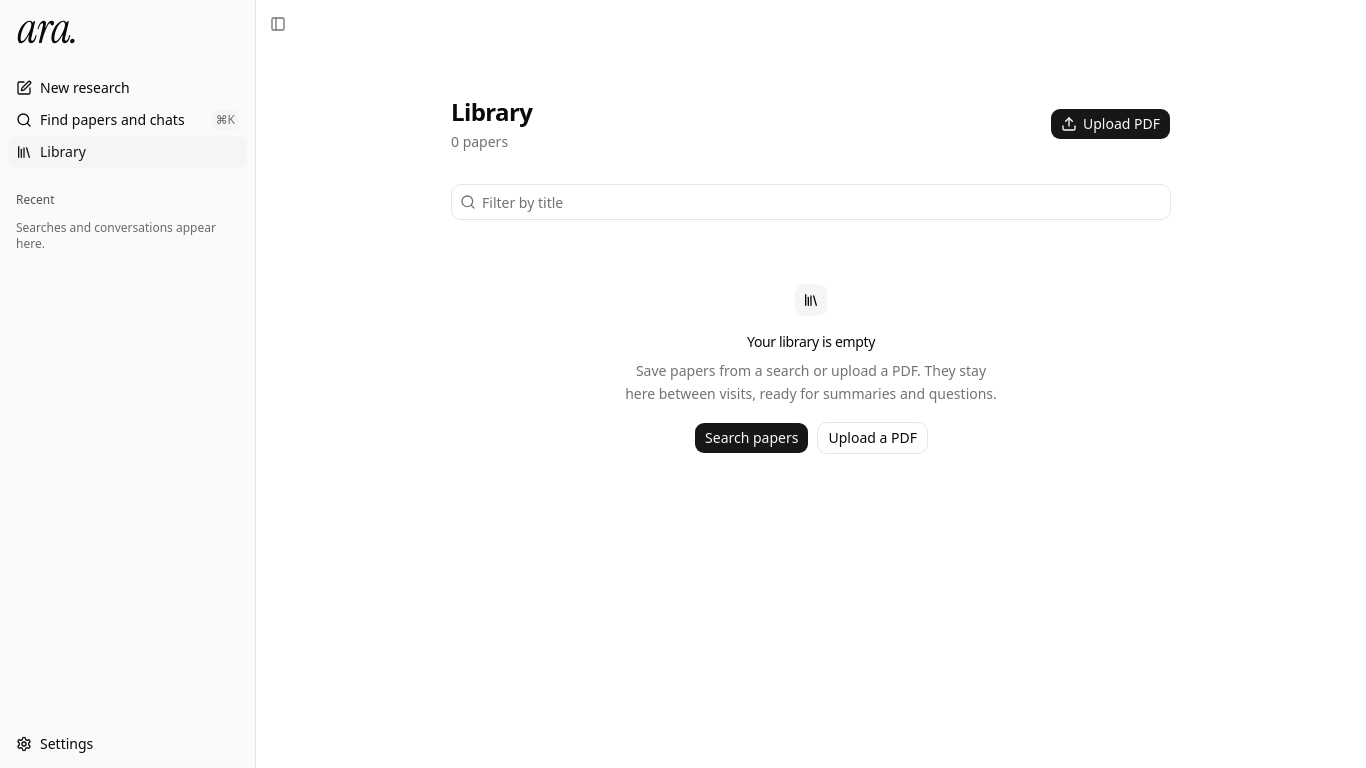
Test case: Given a category is chosen, Then the URL names it, and the browser Back button closes the dialog
The width and height of the screenshot is (1366, 768).
Step 1. Click the button "Settings" → (128, 744), box [8, 728, 247, 760]
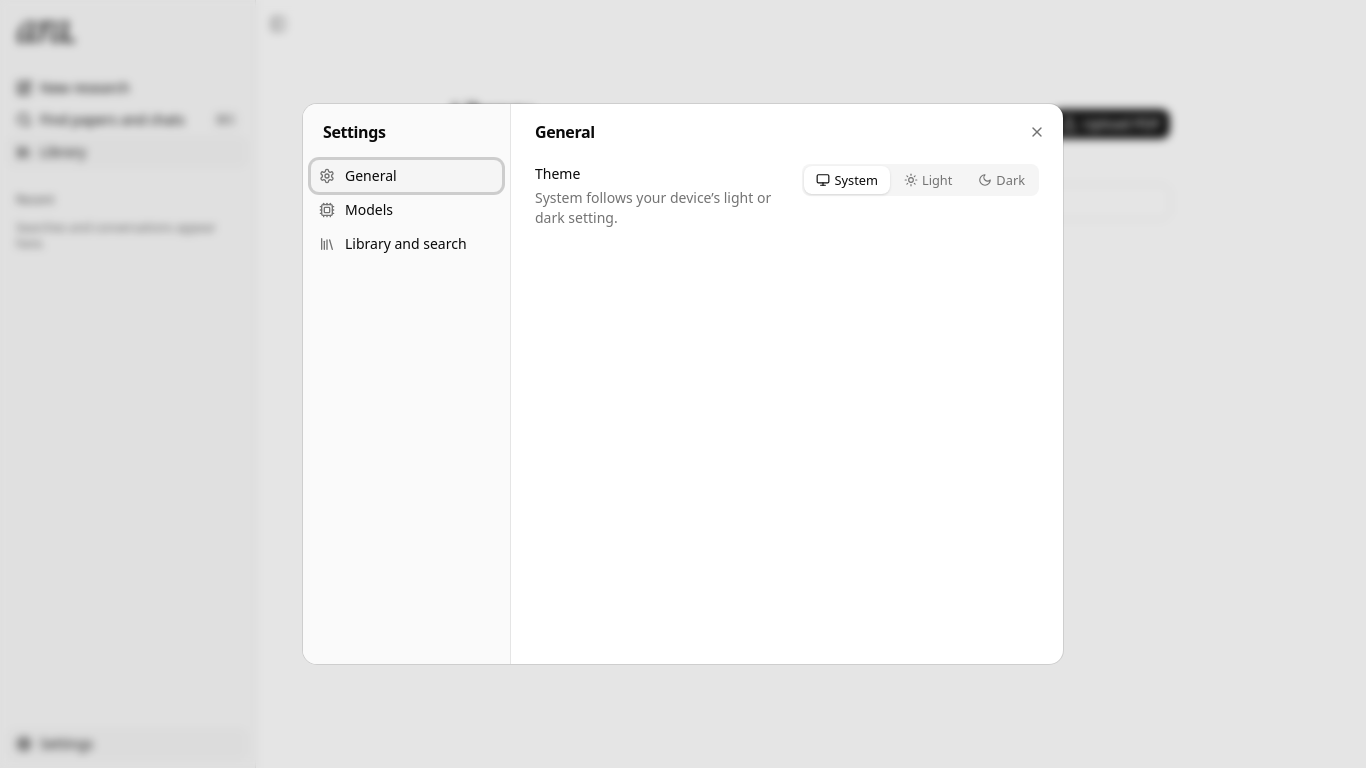
Step 2. Click the tab "Models" → (406, 210), box [311, 194, 502, 226]
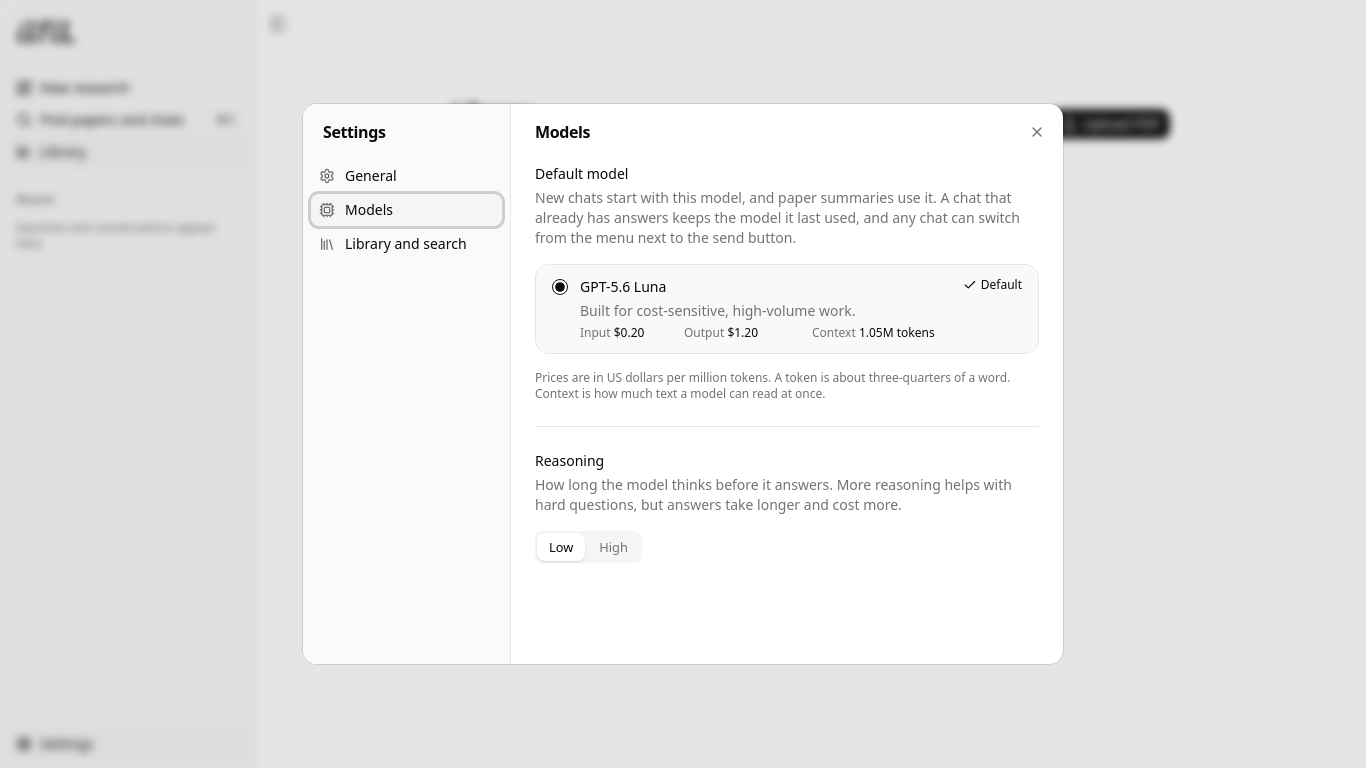
Expected: the heading "Models" is shown, [535, 121, 590, 143]
